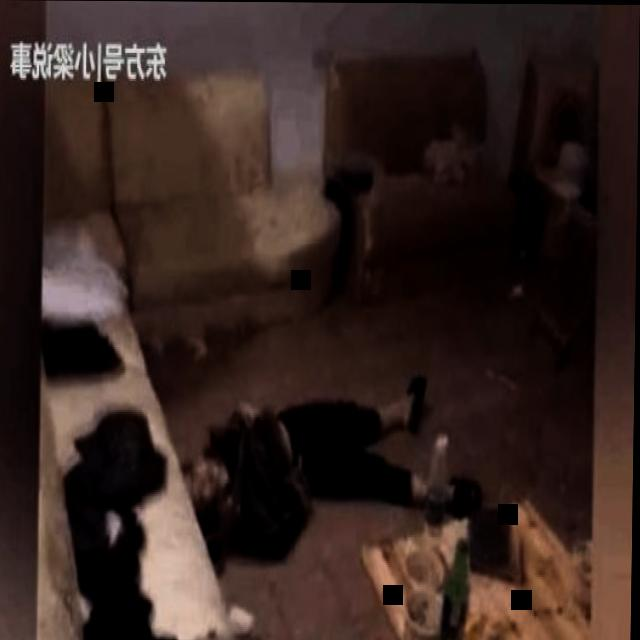Fall-Detected: (180, 345, 475, 556)
